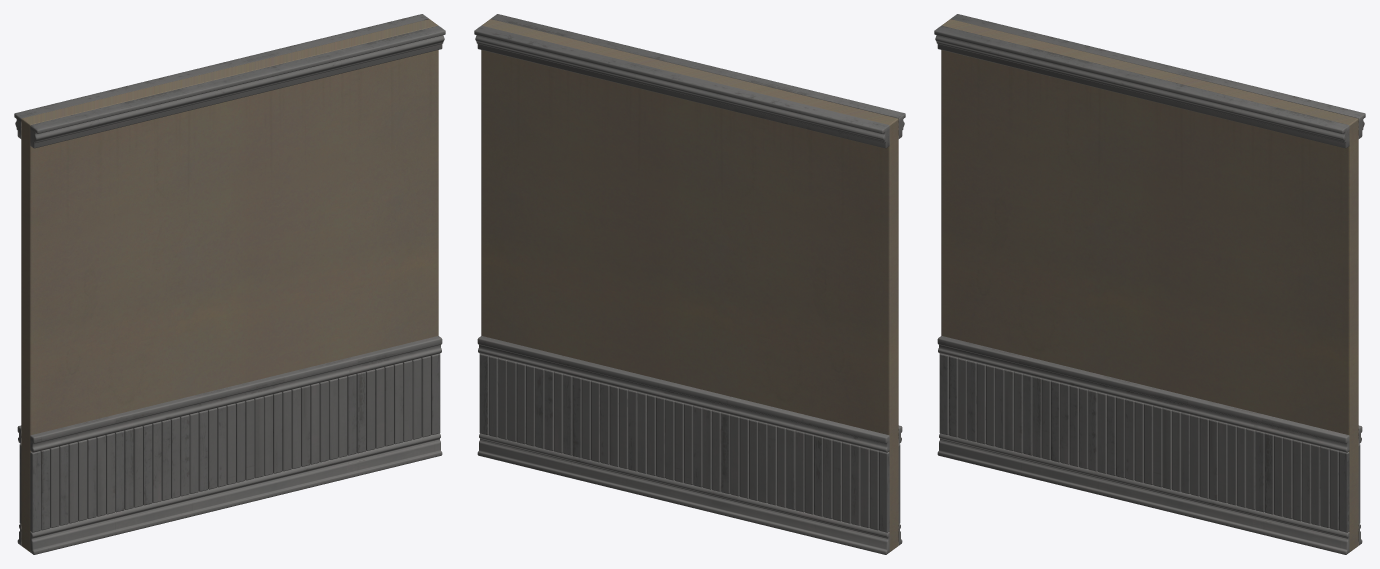
The model's file is SK4 WALL 2 INT.fbx.
3 views of the same model, side by side, from view 1: azimuth 30°, elevation 25°; view 2: azimuth 150°, elevation 25°; view 3: azimuth 330°, elevation 25° (orthographic).
Visible parts, largest first — view 1: SK4 WALL 2 INT.008; view 2: SK4 WALL 2 INT.008; view 3: SK4 WALL 2 INT.008.
Part boxes in pixels (bbox=[...]): SK4 WALL 2 INT.008: bbox=[14, 14, 445, 554]; SK4 WALL 2 INT.008: bbox=[474, 14, 905, 554]; SK4 WALL 2 INT.008: bbox=[934, 14, 1365, 554].
Size of the model in its own units: 400 by 400 by 39.93.
